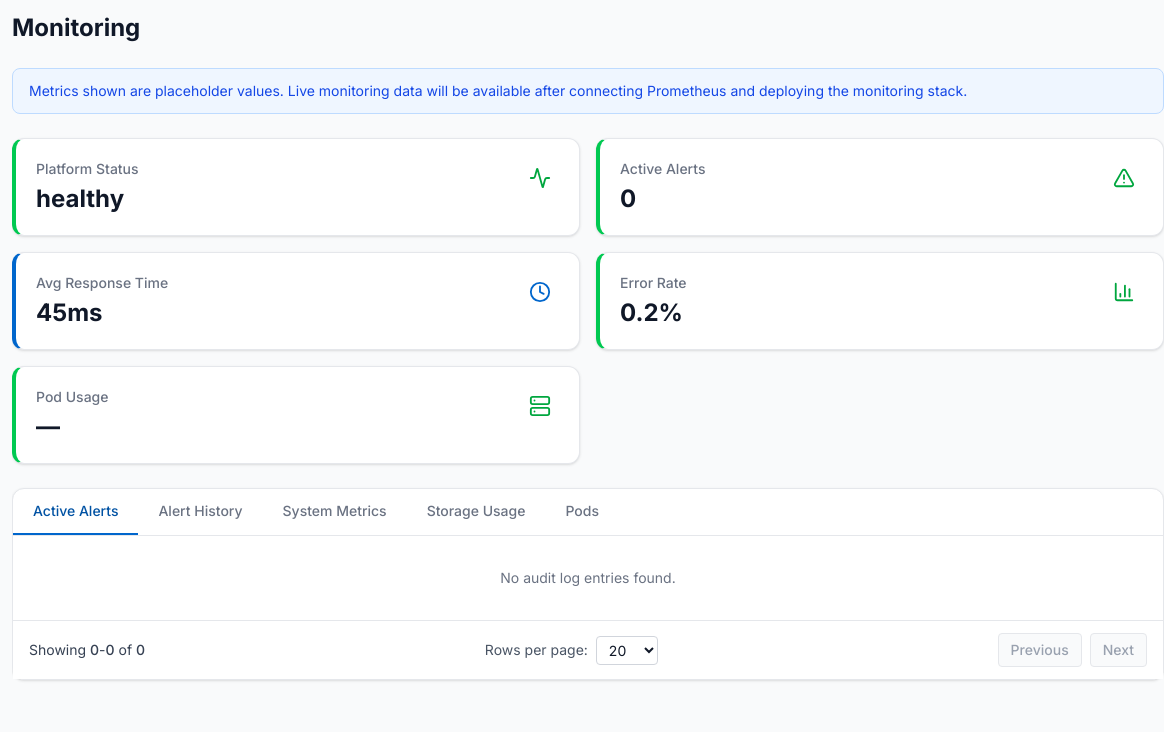
Scenario: Monitoring Pods tab › shows the loading state
The image size is (1164, 732).
Click the button with test id "tab-pods" at x=582, y=512, box x1=545 y1=489 x2=619 y2=535
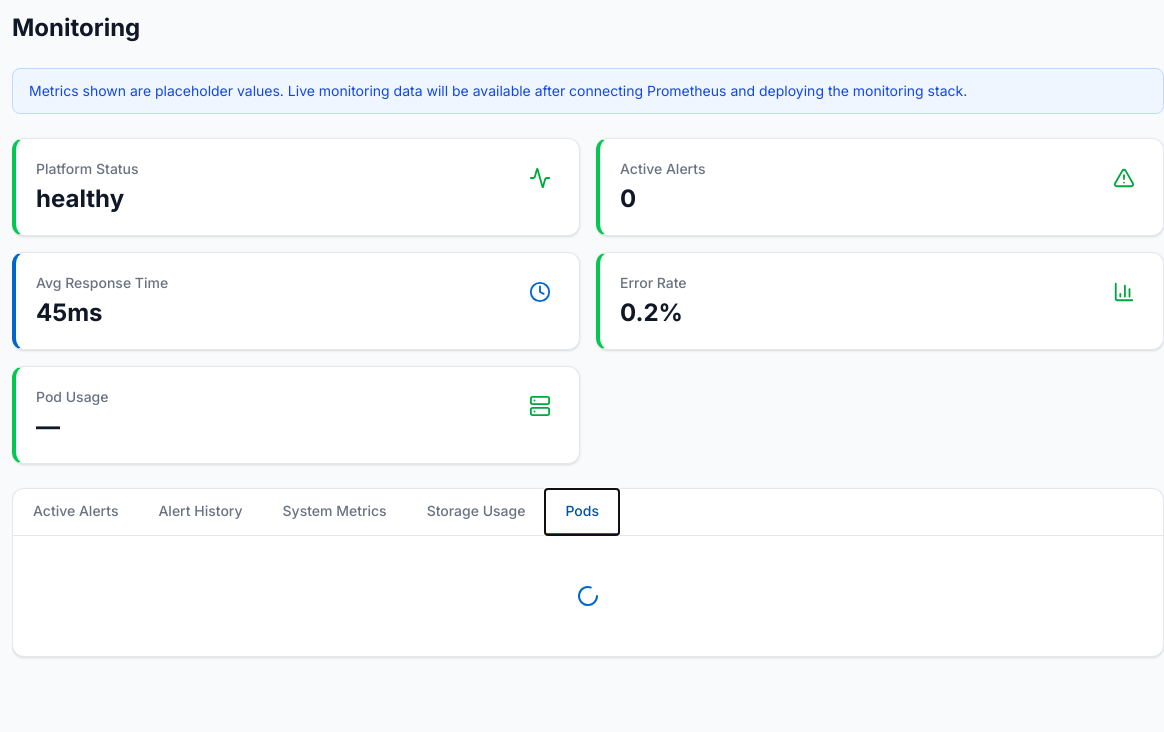
Result: the element with test id "pods-loading" is shown at x1=576 y1=584 x2=600 y2=608
